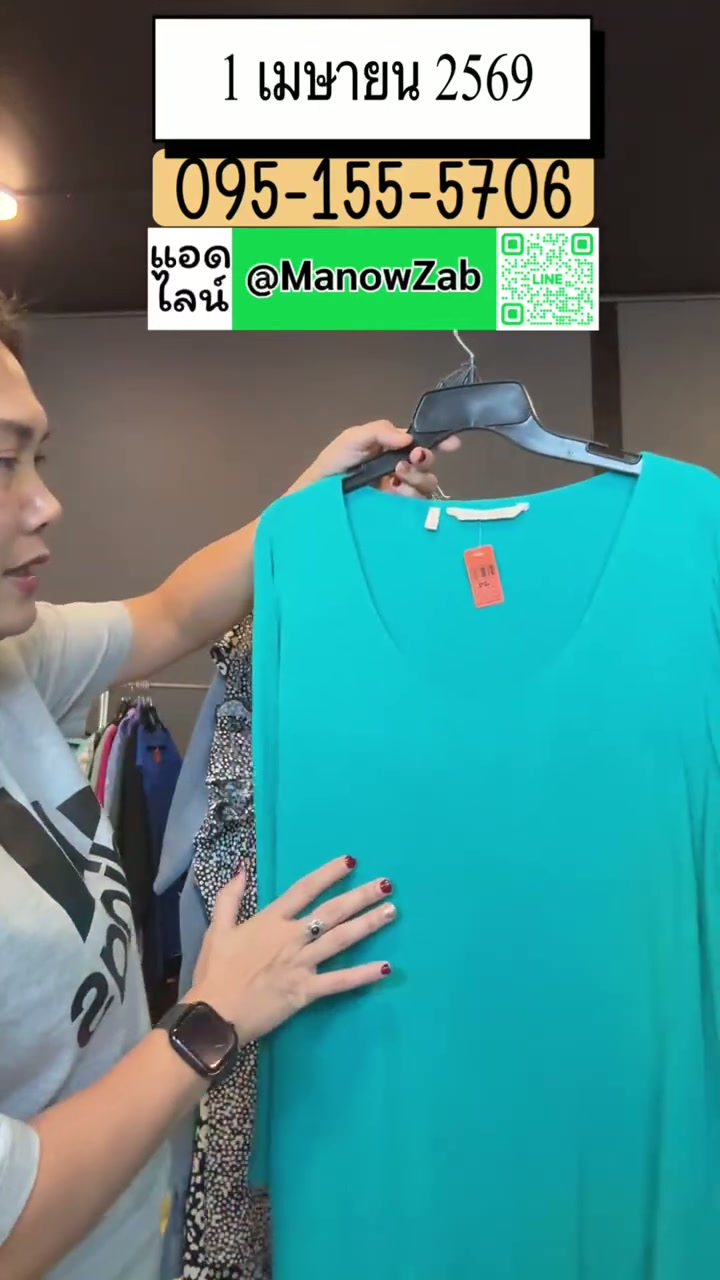display_shirt: (253, 455, 719, 1279)
